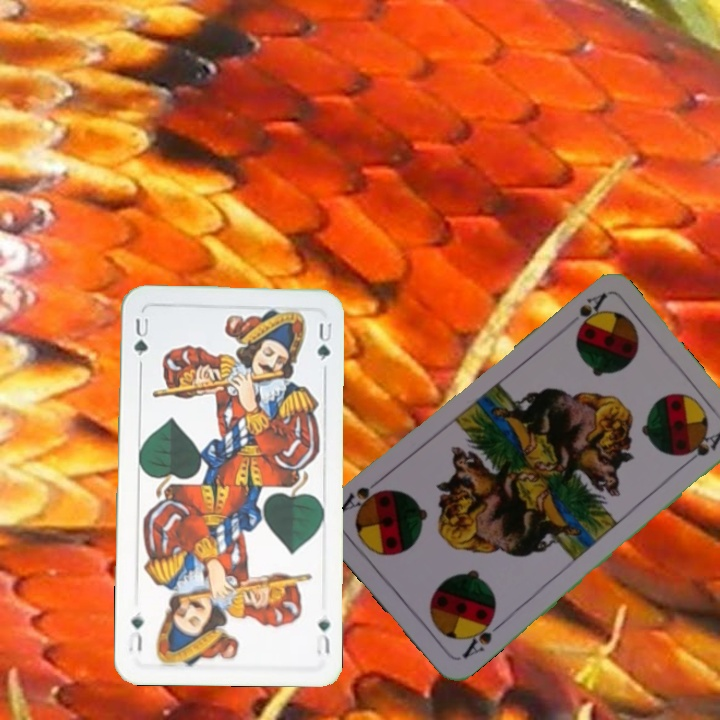GU: (130, 314, 151, 359), (312, 614, 333, 658)
SA: (458, 611, 505, 662), (572, 289, 609, 334)
